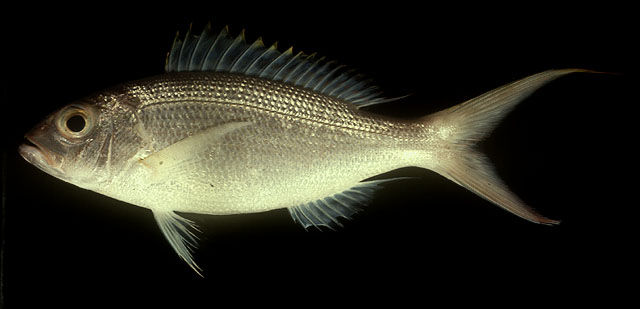fish: (18, 23, 595, 279)
